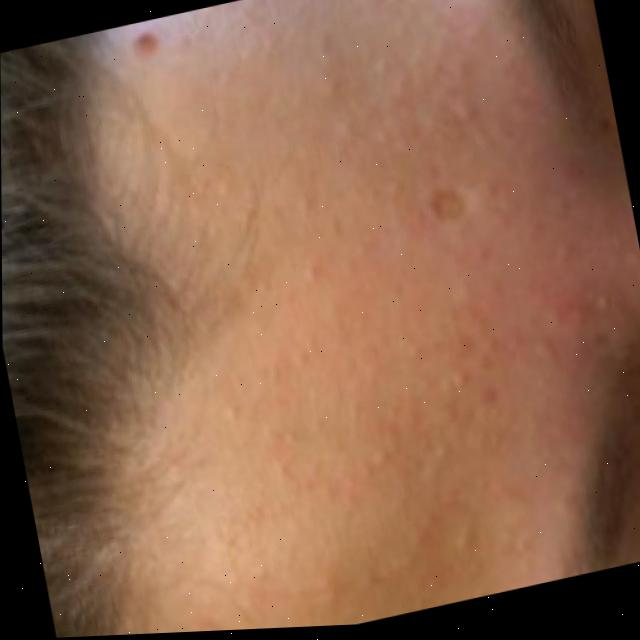Acne: (124, 25, 159, 58)
